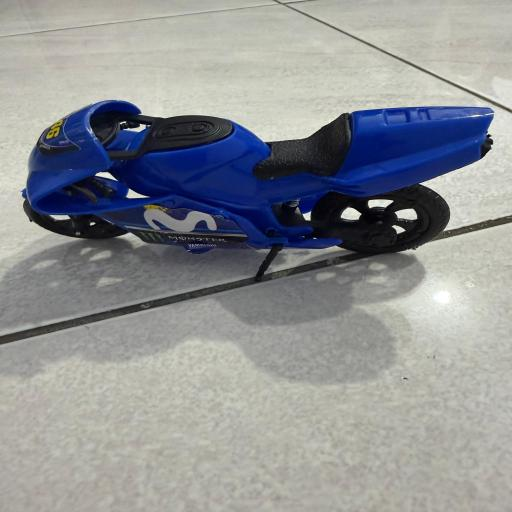motor-biru: (17, 88, 498, 288)
